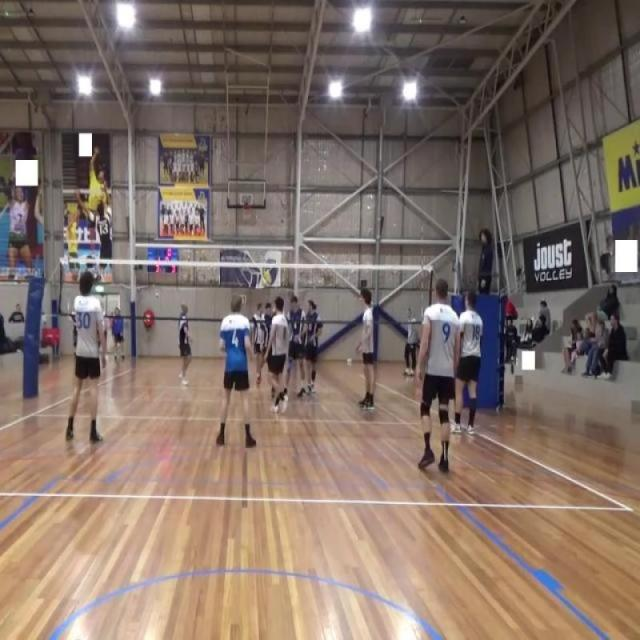volleyball: (261, 278, 268, 288)
